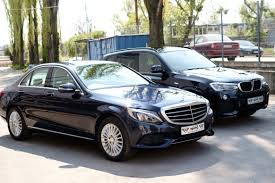car: (1, 61, 217, 161), (101, 47, 269, 120), (183, 36, 239, 63), (232, 38, 262, 58)
